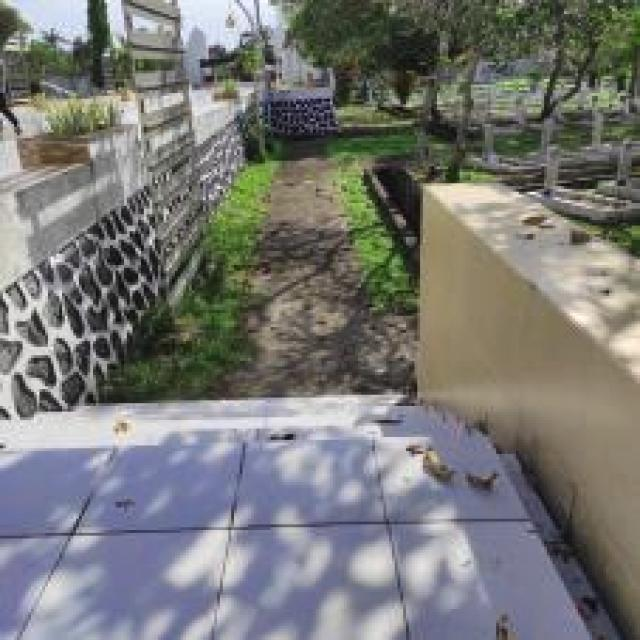downstair: (44, 390, 509, 497)
